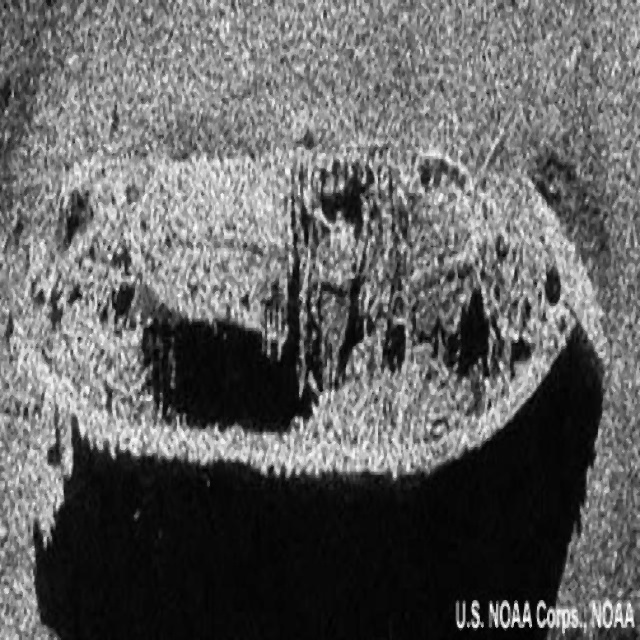Ship: (8, 125, 588, 535)
